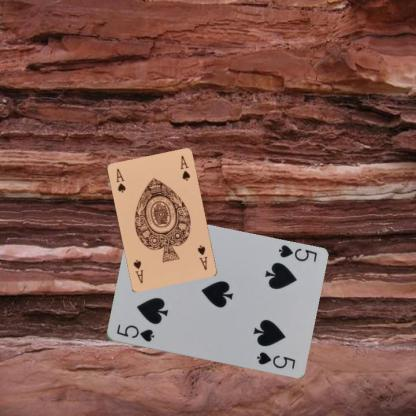5s: (275, 242, 318, 264), (114, 322, 155, 343)
As: (195, 242, 209, 272), (114, 166, 127, 194)
